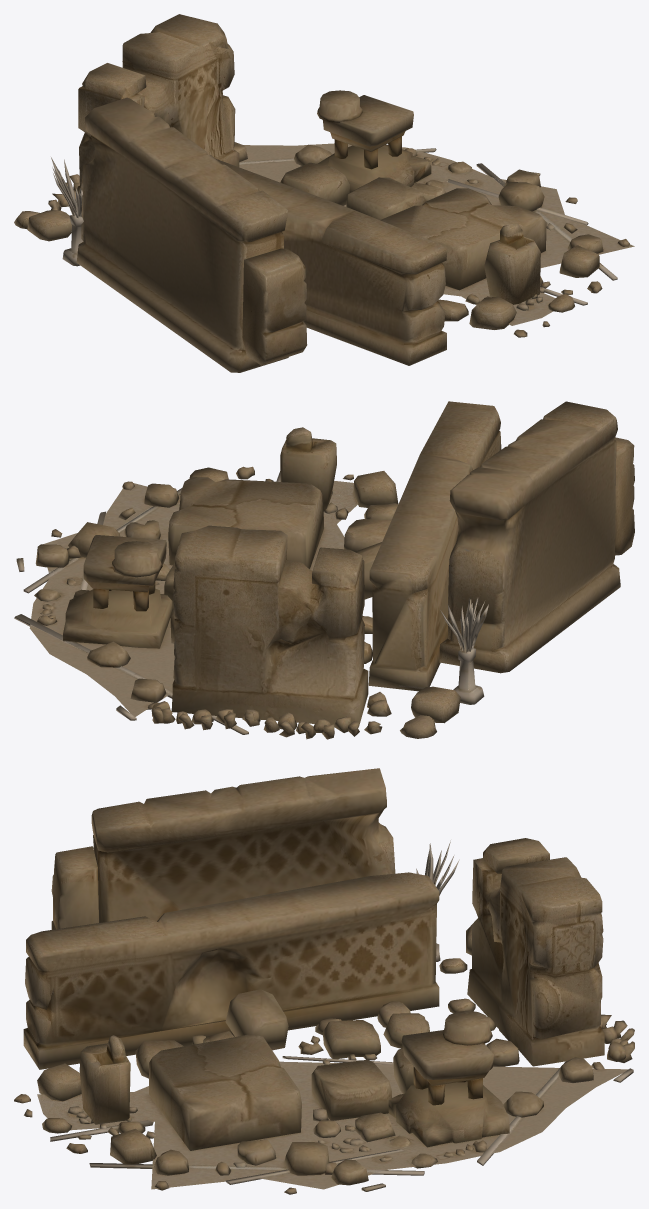
File: ruins (1).glb
The picture shows the model from 3 angles, top to bottom: view 1: azimuth 30°, elevation 25°; view 2: azimuth 150°, elevation 25°; view 3: azimuth 270°, elevation 25°; orthographic projection. The views are drawn at different scales.
Visible parts, largest first — view 1: tripo_node_c2a8cb65-e1fe-48f0-8020-5cffb69aeb19; view 2: tripo_node_c2a8cb65-e1fe-48f0-8020-5cffb69aeb19; view 3: tripo_node_c2a8cb65-e1fe-48f0-8020-5cffb69aeb19.
Boxes of the visible parts, bbox=[...] form: tripo_node_c2a8cb65-e1fe-48f0-8020-5cffb69aeb19: bbox=[14, 14, 634, 372]; tripo_node_c2a8cb65-e1fe-48f0-8020-5cffb69aeb19: bbox=[14, 401, 634, 739]; tripo_node_c2a8cb65-e1fe-48f0-8020-5cffb69aeb19: bbox=[14, 768, 634, 1194].
Size of the model in its own units: 0.9395 by 0.3457 by 0.998.
Materials: 1 (1 with a texture image).
